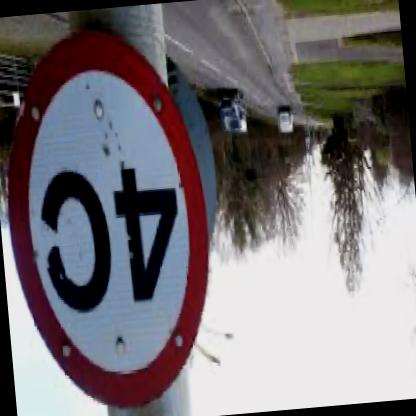speedlimit: (0, 15, 232, 415)
